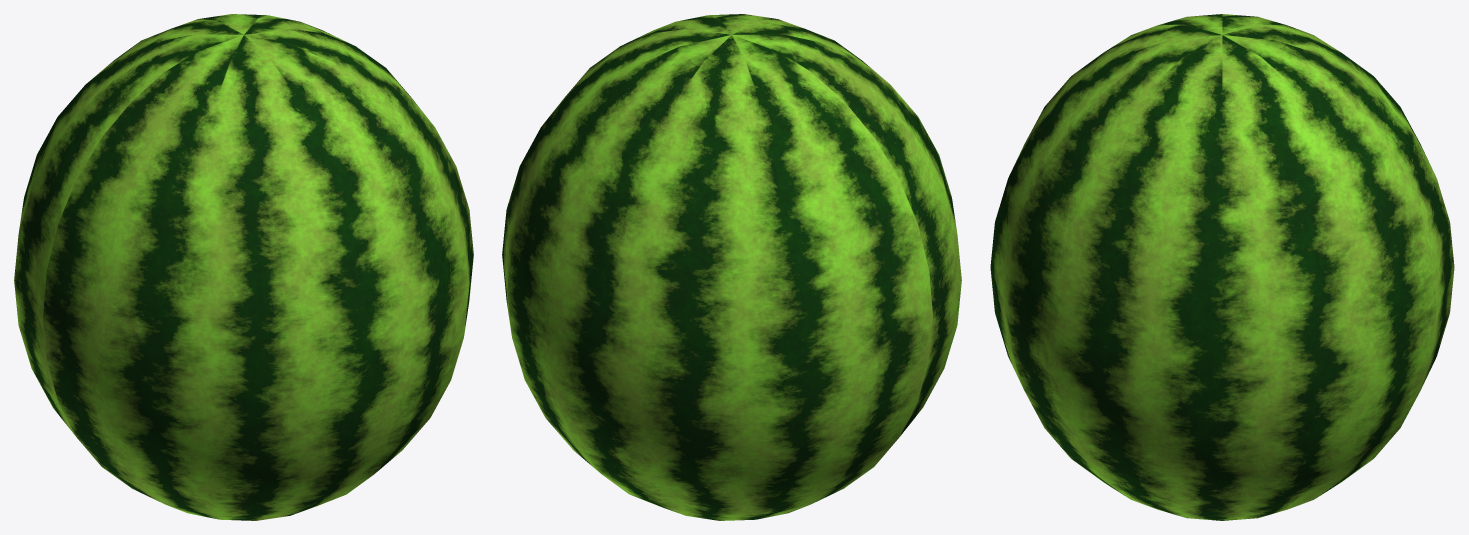
Rendered from WaterMelon.gltf.
3 renders of one model, left to right at view 1: azimuth 30°, elevation 25°; view 2: azimuth 150°, elevation 25°; view 3: azimuth 270°, elevation 25°, orthographic.
Parts seen in each view (by area): view 1: 球; view 2: 球; view 3: 球.
Boxes of the visible parts, x1,y1,x2,y2 form: 球: (14, 14, 473, 520); 球: (502, 14, 961, 520); 球: (990, 14, 1454, 520).
Bounding box in the file's own units: 1.76 × 1.95 × 1.76.
1 material, 1 textured.
